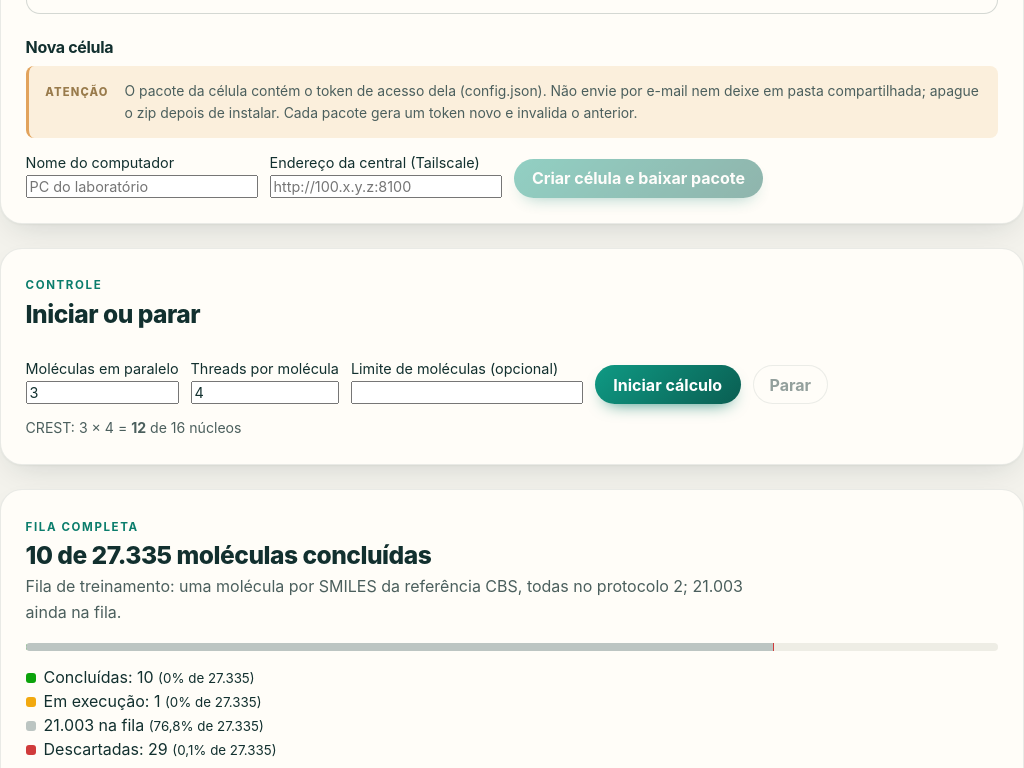
Test: mostra o erro da API ao iniciar
(page scrolled)
Check: the picture named "Andamento do treinamento" is shown, box [26,643,998,651]
Click the button "Iniciar cálculo" at (668, 385), box [595,365,740,404]
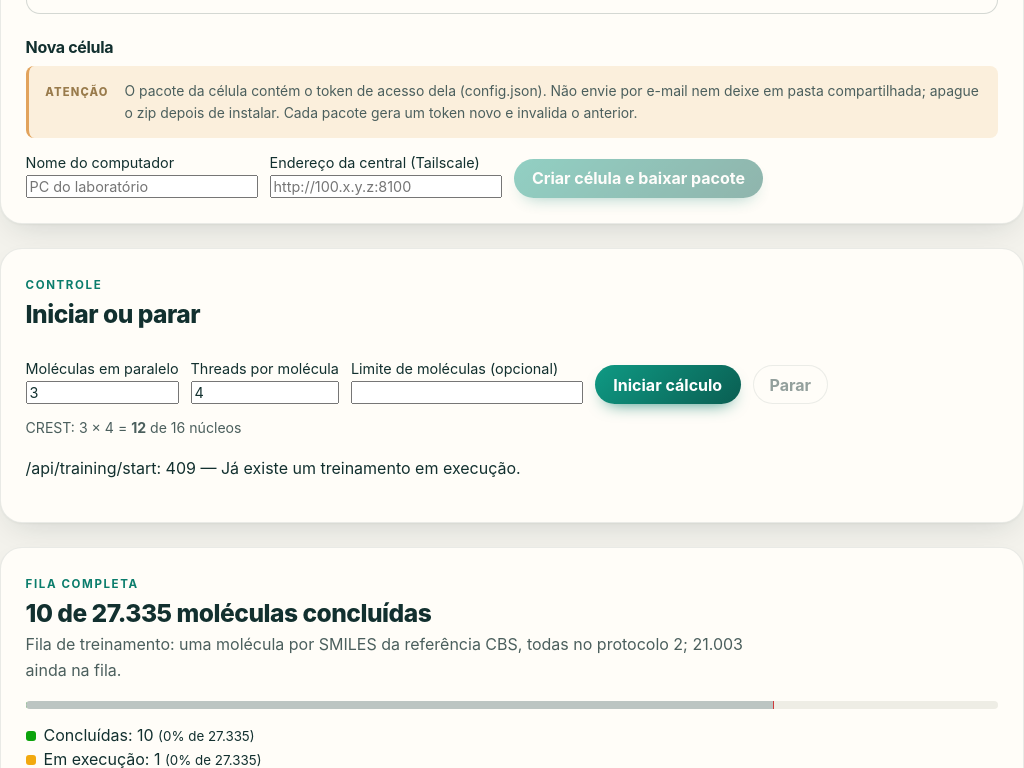
Check: the message shows "Já existe um treinamento em execução.", box [26,458,521,478]
